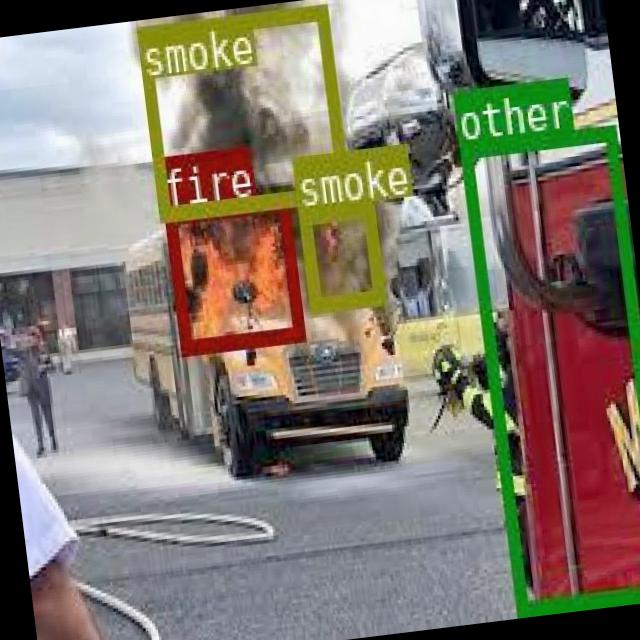fire: (162, 194, 303, 351)
smoke: (136, 2, 347, 220), (297, 198, 383, 312)
